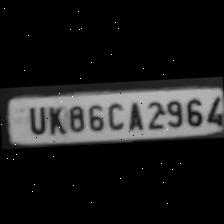2: (143, 96, 165, 130)
4: (202, 92, 224, 125)
6: (182, 94, 204, 126), (84, 99, 104, 130)
8: (63, 100, 85, 132)
9: (162, 95, 182, 127)
A: (122, 97, 144, 130)
C: (104, 97, 124, 129)
K: (43, 102, 65, 134)
U: (22, 101, 46, 133)
